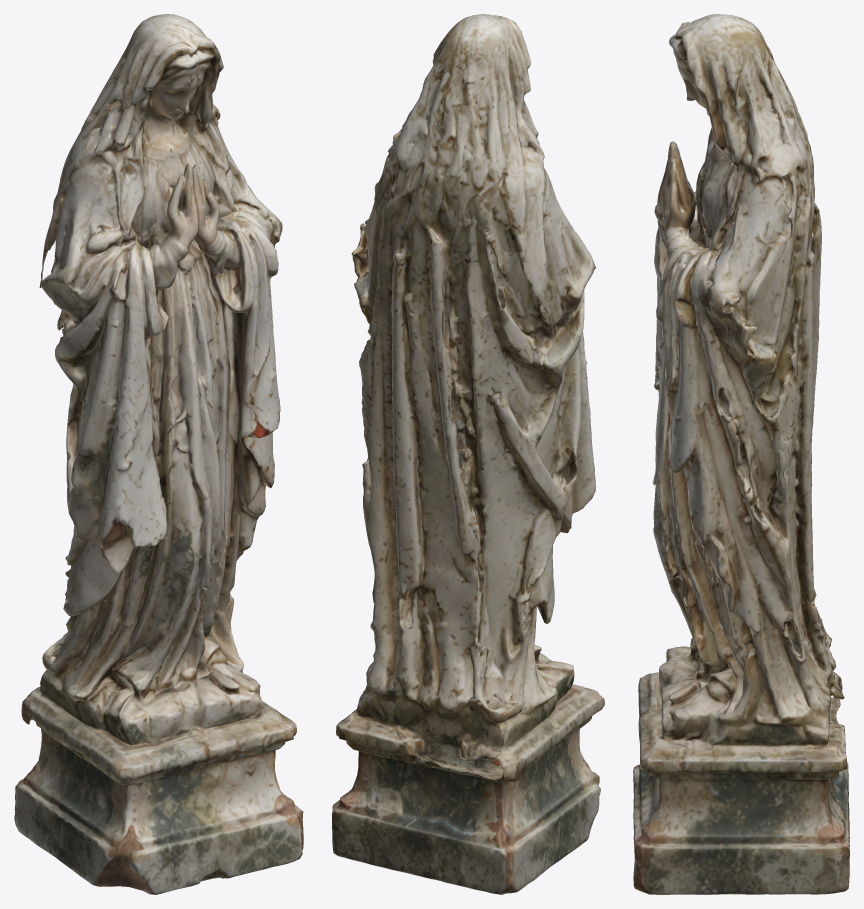
The model's file is Statue.fbx.
The picture shows the model from 3 angles, left to right: view 1: azimuth 30°, elevation 25°; view 2: azimuth 150°, elevation 25°; view 3: azimuth 270°, elevation 25°; orthographic projection. The views are drawn at different scales.
Visible parts, largest first — view 1: texture_mapping; view 2: texture_mapping; view 3: texture_mapping.
Boxes of the visible parts, x1,y1,x2,y2 form: texture_mapping: (14, 14, 303, 894); texture_mapping: (332, 14, 604, 894); texture_mapping: (633, 14, 849, 894).
Bounding box in the file's own units: 0.2928 × 0.236 × 1.
Materials: 1 (1 with a texture image).
